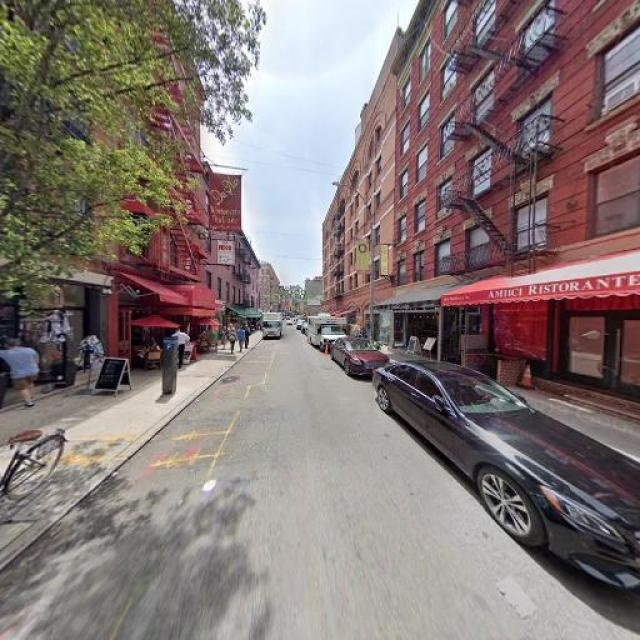Building: (505, 1, 640, 414), (1, 1, 107, 402), (397, 1, 500, 378), (112, 1, 199, 369), (325, 70, 394, 348)
